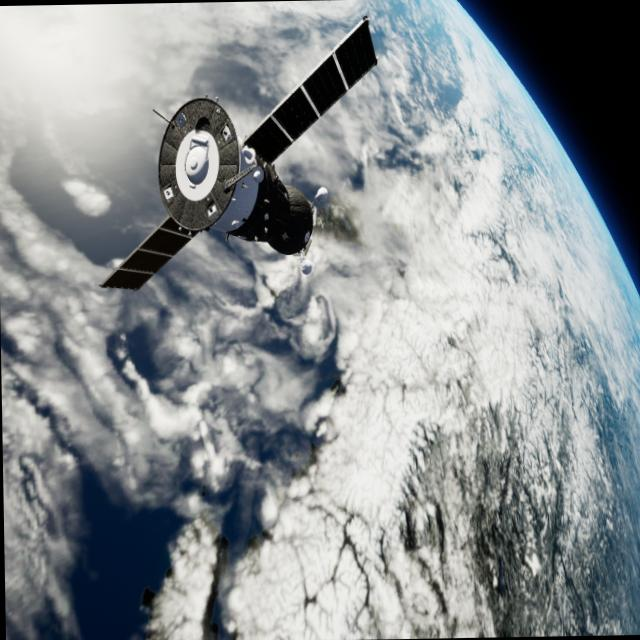Satellites revolving around earth: (93, 12, 383, 294)
